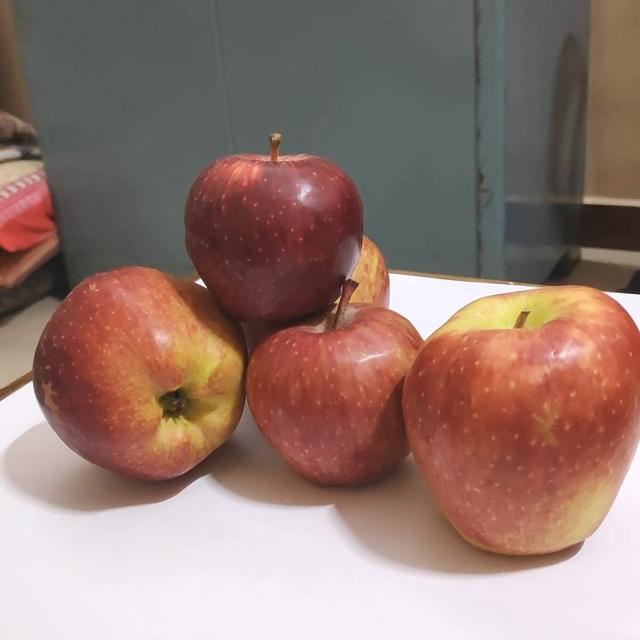apple: (402, 270, 638, 554), (27, 253, 253, 478), (244, 268, 432, 490), (184, 118, 374, 314), (330, 221, 394, 308)
